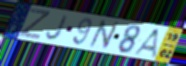8: (118, 24, 142, 55)
9: (71, 17, 93, 46)
A: (131, 27, 162, 59)
J: (45, 14, 70, 41)
N: (87, 18, 121, 50)
Z: (17, 7, 51, 41)
